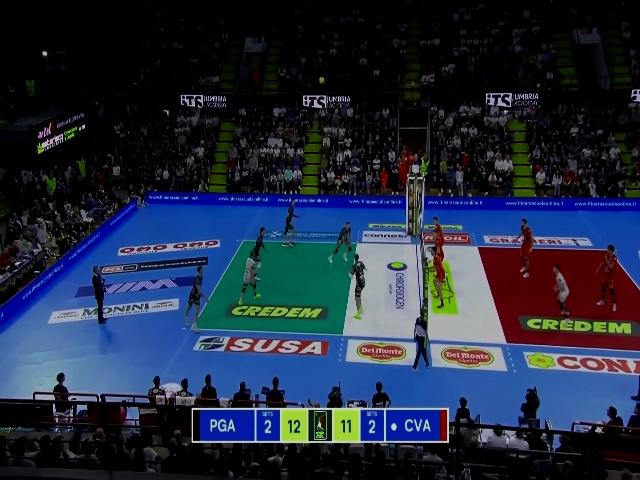volleyball court: (193, 239, 639, 354)
